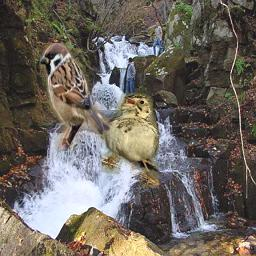Sparrow: (40, 43, 110, 151), (101, 93, 159, 188)
